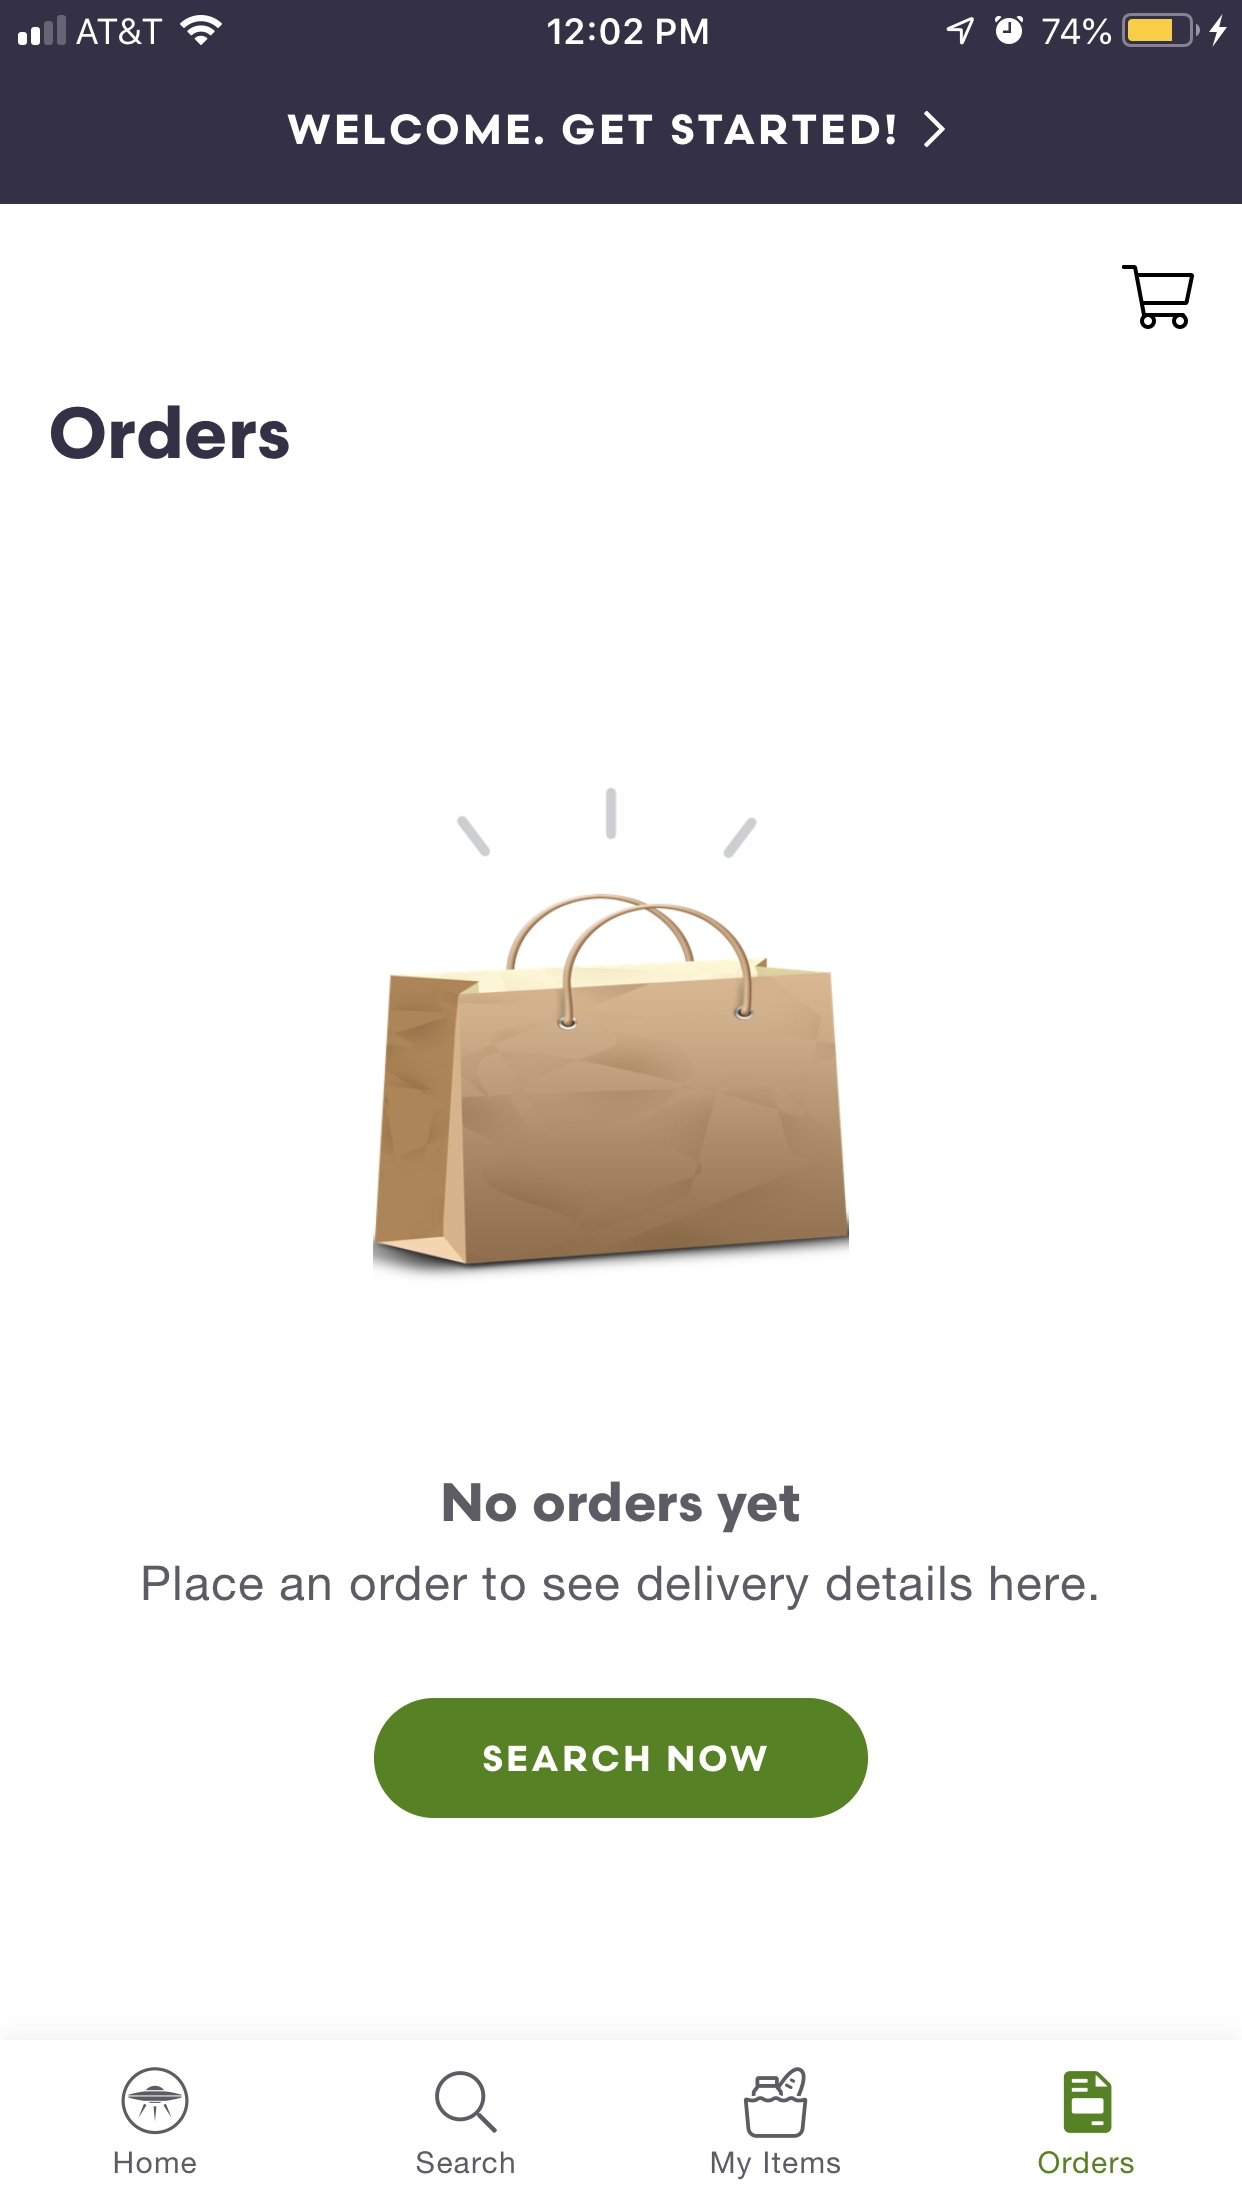Icon: (1122, 265, 1195, 331), (435, 2072, 499, 2134), (1065, 2070, 1113, 2134), (924, 111, 946, 149)
Image: (373, 787, 851, 1266), (121, 2065, 190, 2135), (745, 2065, 808, 2138)
Text: (143, 1565, 1098, 1611), (287, 114, 896, 147), (443, 1482, 801, 1535), (50, 405, 290, 461), (711, 2150, 842, 2181), (416, 2150, 516, 2175), (1037, 2150, 1134, 2175), (115, 2150, 199, 2175)
TextButton: (375, 1697, 869, 1818)
UpperTaskBar: (2, 2, 1242, 49)
